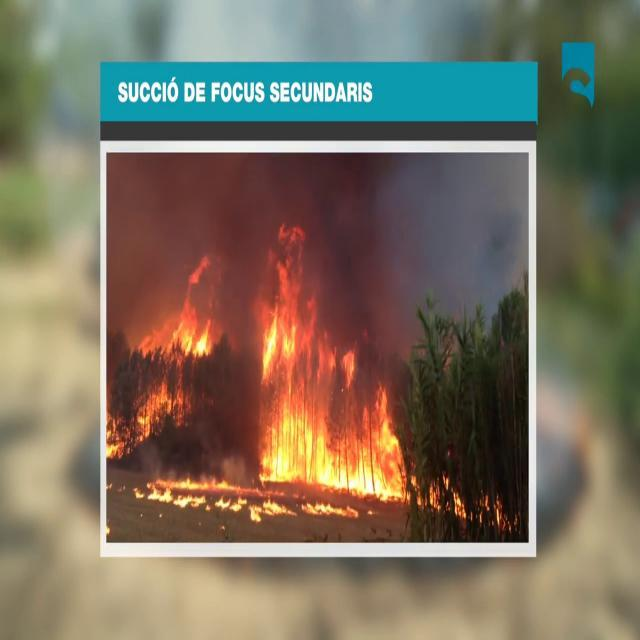Fire: (250, 254, 410, 511), (110, 288, 220, 460), (138, 471, 252, 508), (424, 464, 468, 526)
Smoke: (537, 2, 640, 594), (107, 152, 411, 322)
